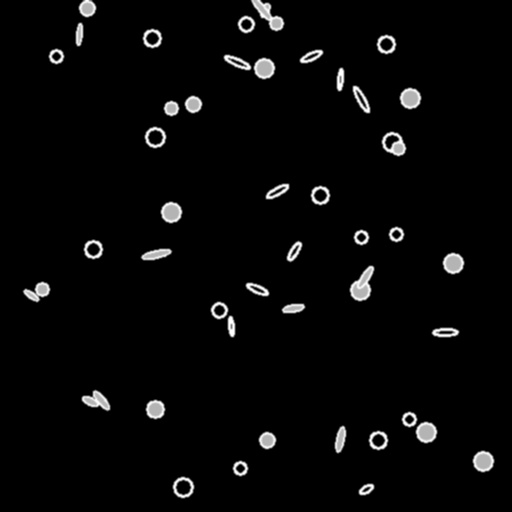pseudomonas: (351, 85, 371, 113), (249, 0, 273, 21), (223, 54, 251, 70), (91, 389, 111, 411), (356, 265, 374, 289), (265, 182, 289, 200), (285, 240, 303, 262), (246, 281, 268, 297), (142, 248, 170, 260), (334, 426, 346, 452), (300, 49, 322, 63), (81, 394, 99, 408), (358, 482, 374, 496), (23, 288, 39, 302), (282, 303, 304, 313), (432, 328, 458, 336), (259, 2, 271, 18), (76, 24, 82, 44), (228, 316, 234, 336), (337, 69, 343, 89)
synechocystis: (383, 133, 401, 151), (146, 128, 164, 146), (255, 59, 273, 77), (417, 423, 435, 441), (474, 452, 492, 470), (401, 89, 419, 107), (174, 478, 192, 496), (162, 203, 180, 221), (444, 254, 462, 272), (351, 281, 369, 299), (144, 30, 160, 46), (378, 36, 394, 52), (312, 187, 328, 203), (370, 432, 386, 448), (85, 241, 101, 257), (147, 401, 163, 417), (239, 17, 253, 31), (80, 1, 94, 15), (212, 303, 226, 317), (186, 97, 200, 111), (260, 433, 274, 447), (355, 231, 367, 243), (165, 102, 177, 114), (234, 462, 246, 474), (36, 283, 48, 295), (392, 142, 404, 154), (403, 413, 415, 425), (270, 17, 282, 29), (50, 50, 62, 62), (390, 228, 402, 240)
